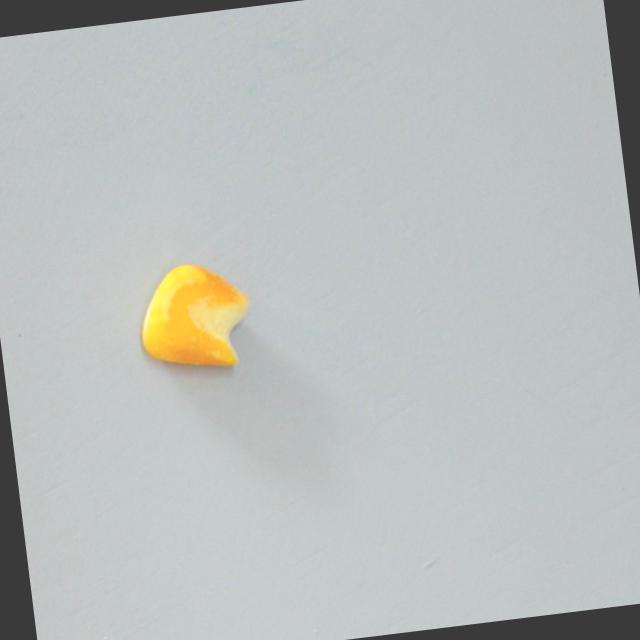no_canjicado: (130, 255, 259, 378)
